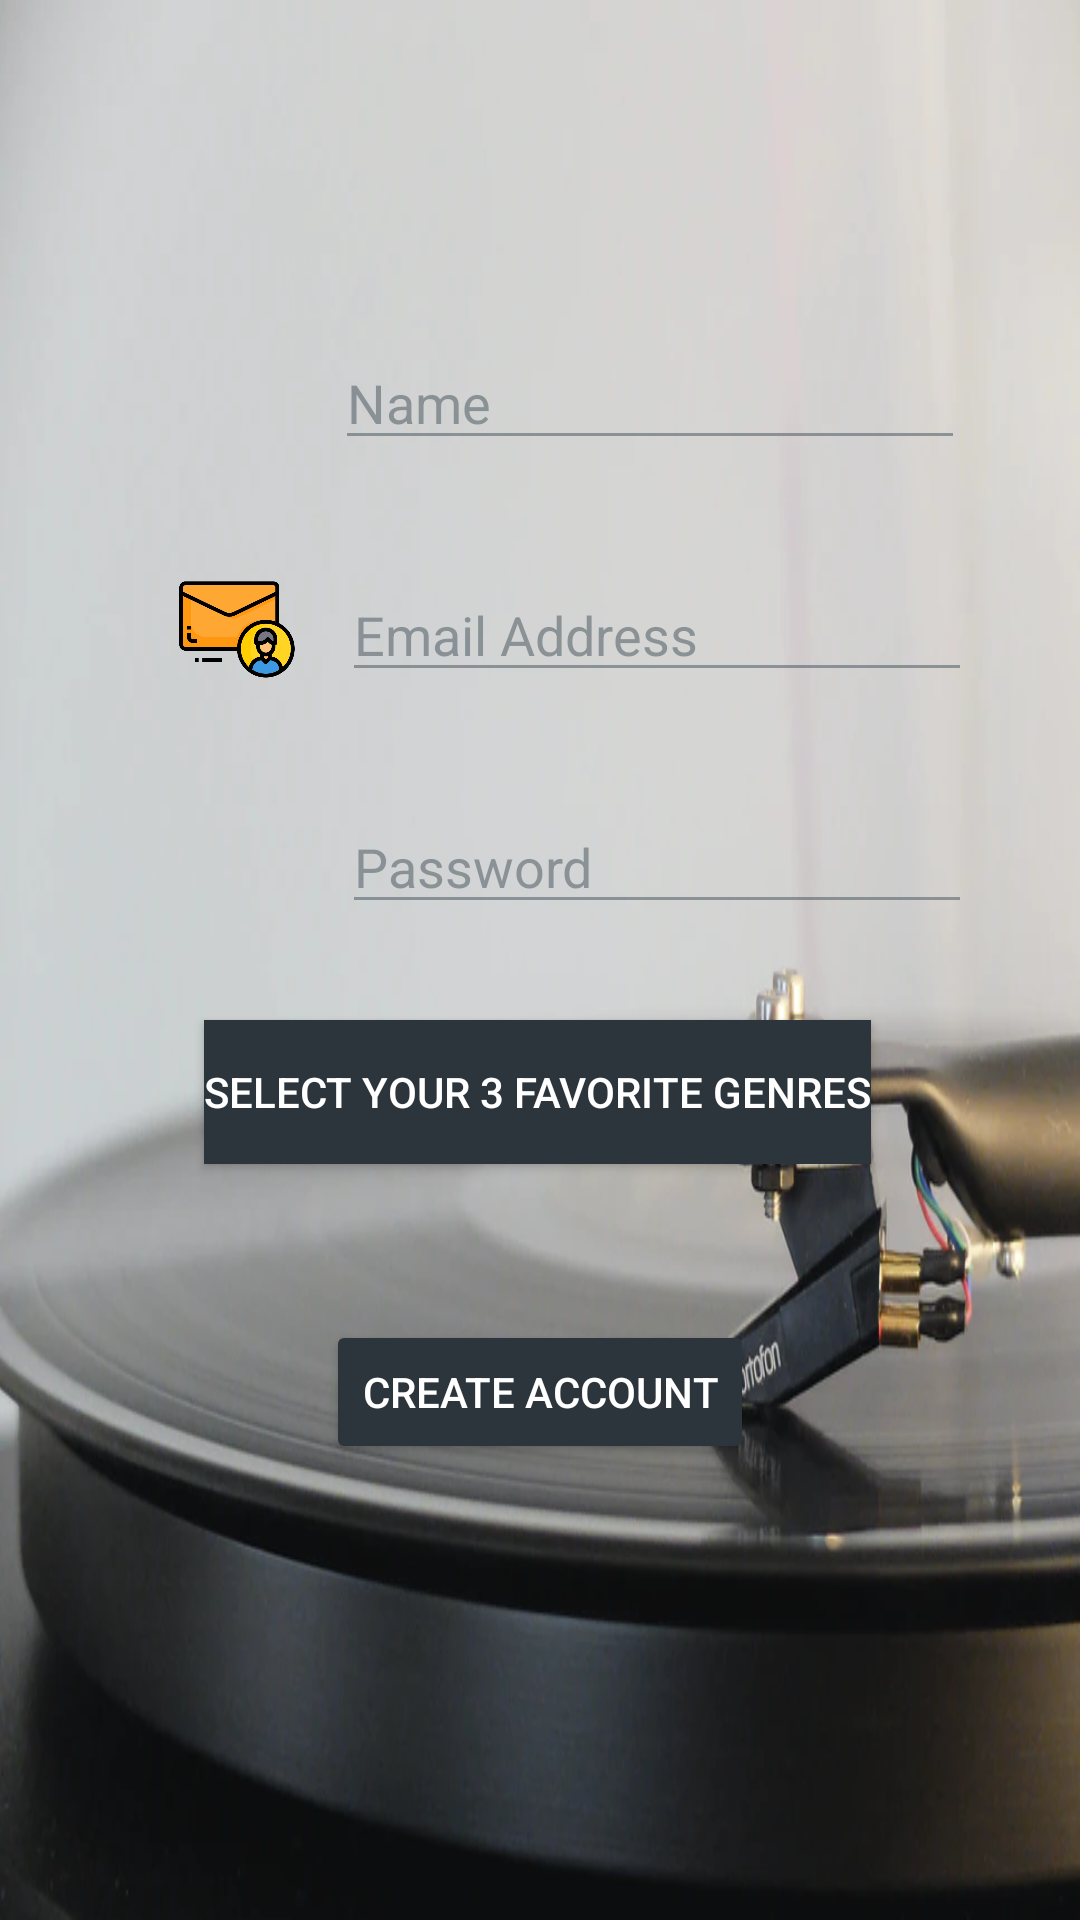

Icons on this 1080 × 1920 Android screen, each with the point to tap as [x,y]:
emailuser: [237,629]
